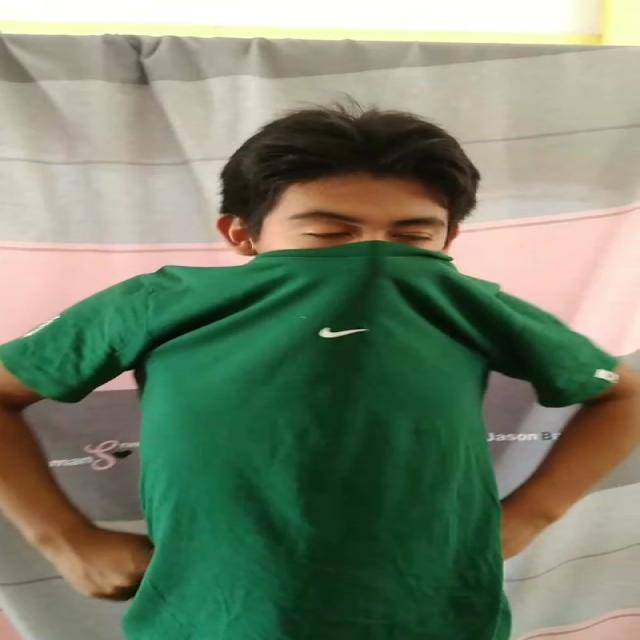8_ropa_rostro: (222, 239, 498, 342)
